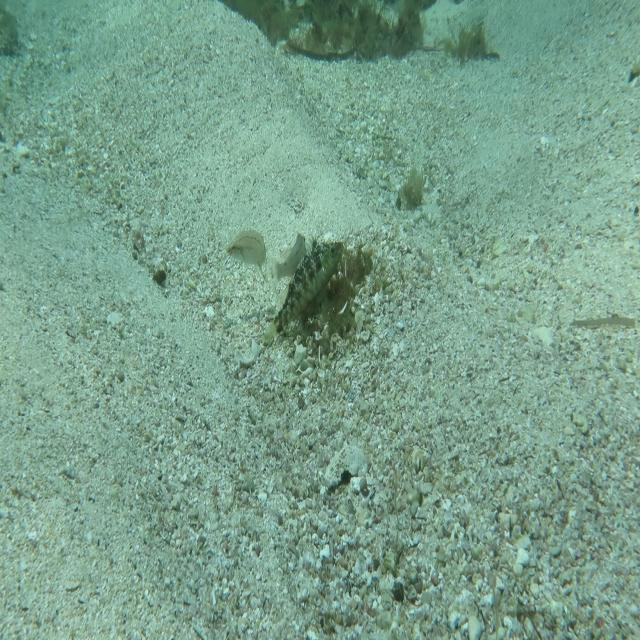ROLL: (261, 230, 347, 346)
female: (269, 229, 311, 291)
nest: (277, 246, 374, 366)
other_fish: (224, 225, 270, 279)
